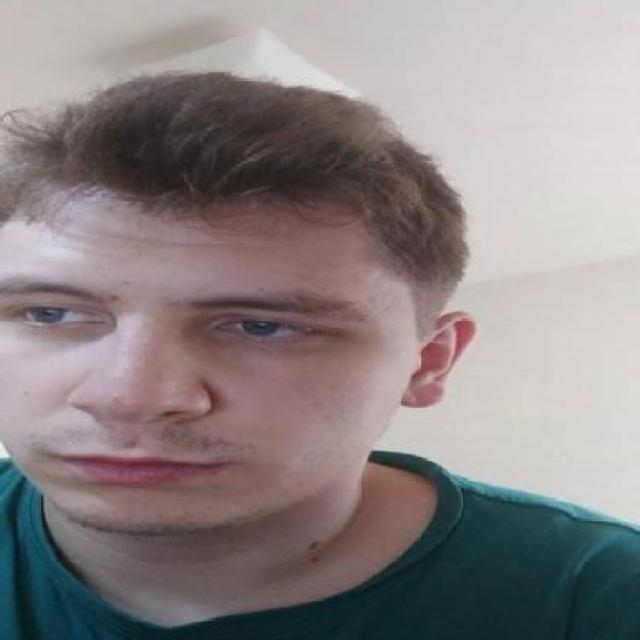awake: (207, 312, 324, 346), (3, 300, 106, 331)
